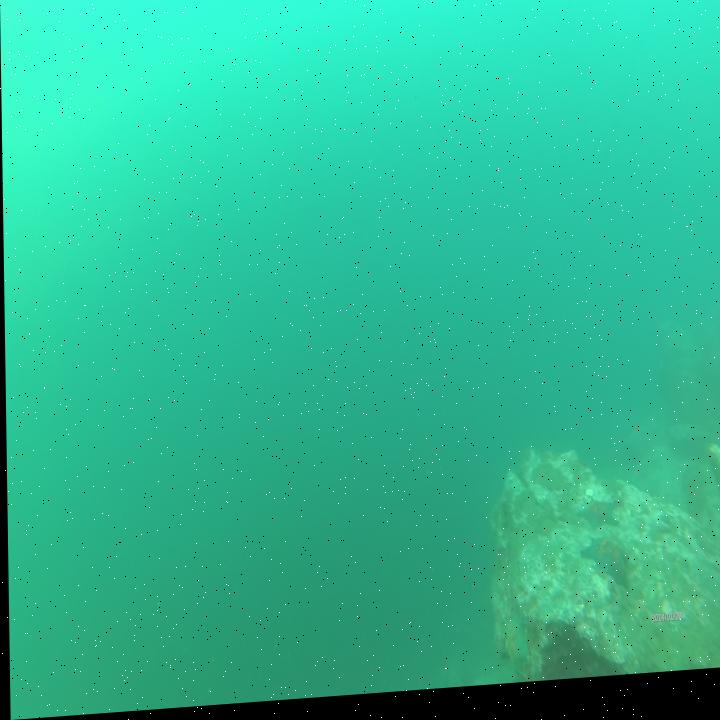starfish: (582, 541, 631, 603), (497, 617, 530, 679), (572, 499, 616, 544)
